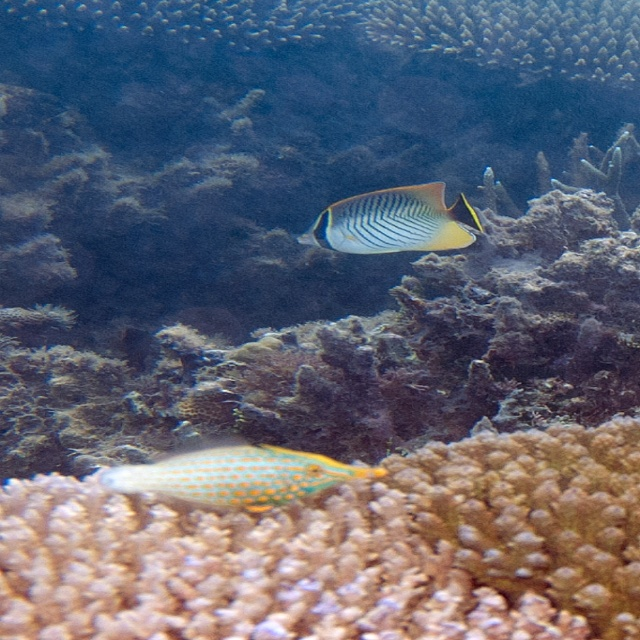Fish: (92, 445, 389, 505), (298, 181, 480, 256)
